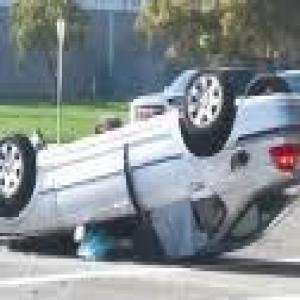fatal: (0, 60, 300, 258)
